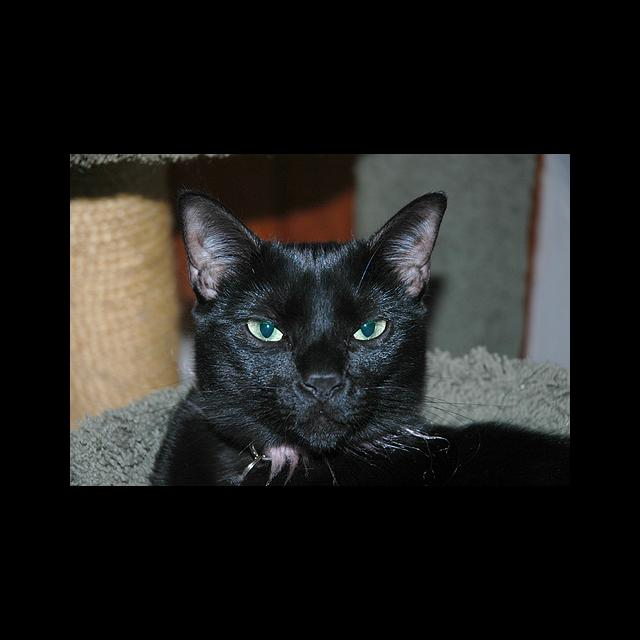animals: (184, 191, 443, 395)
